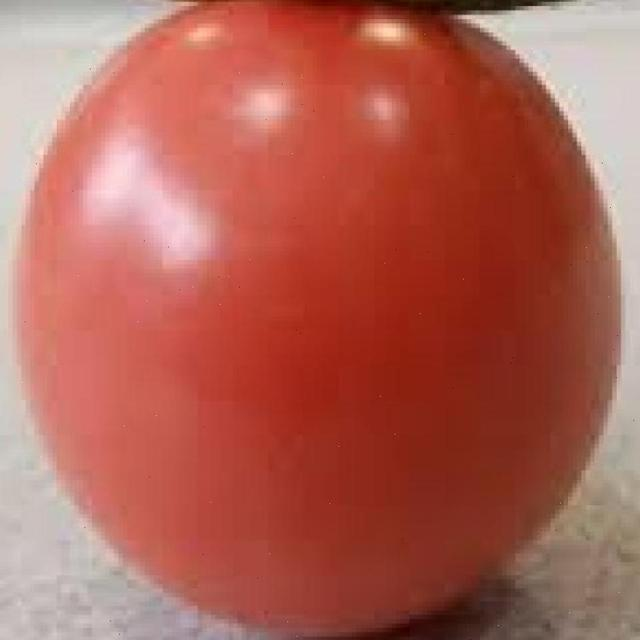Healthy Fruit: (10, 0, 427, 427)
